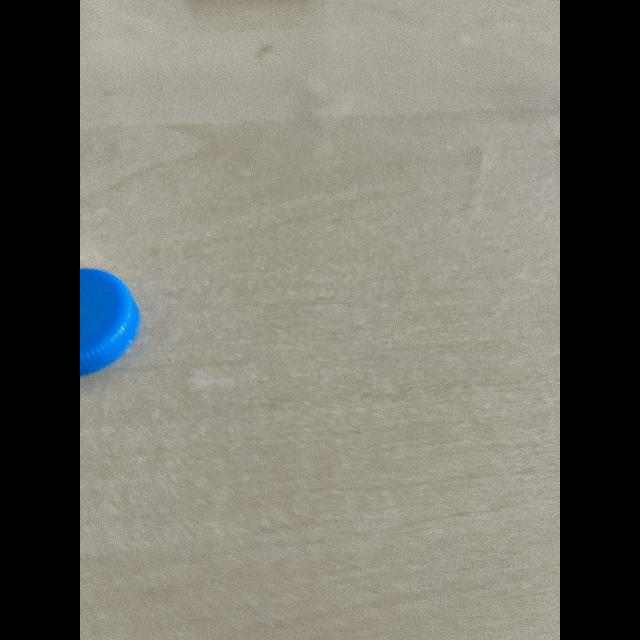plastic_bottle_cap: (80, 264, 146, 372)
